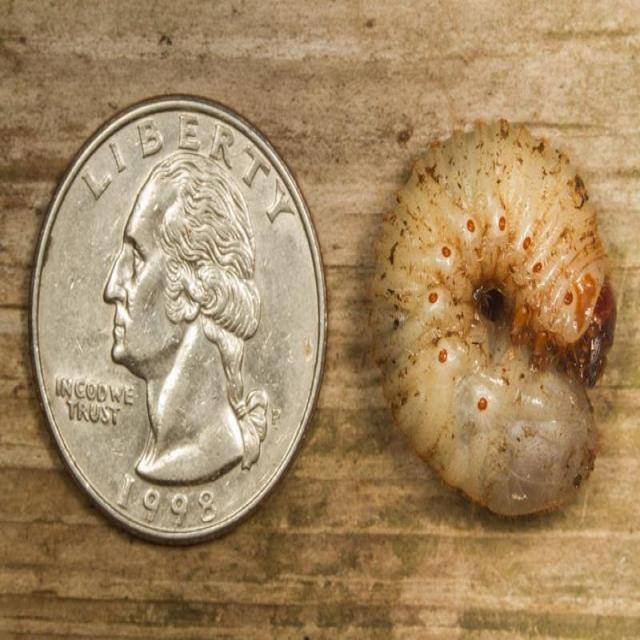Grub-Adult-: (356, 98, 615, 526)
